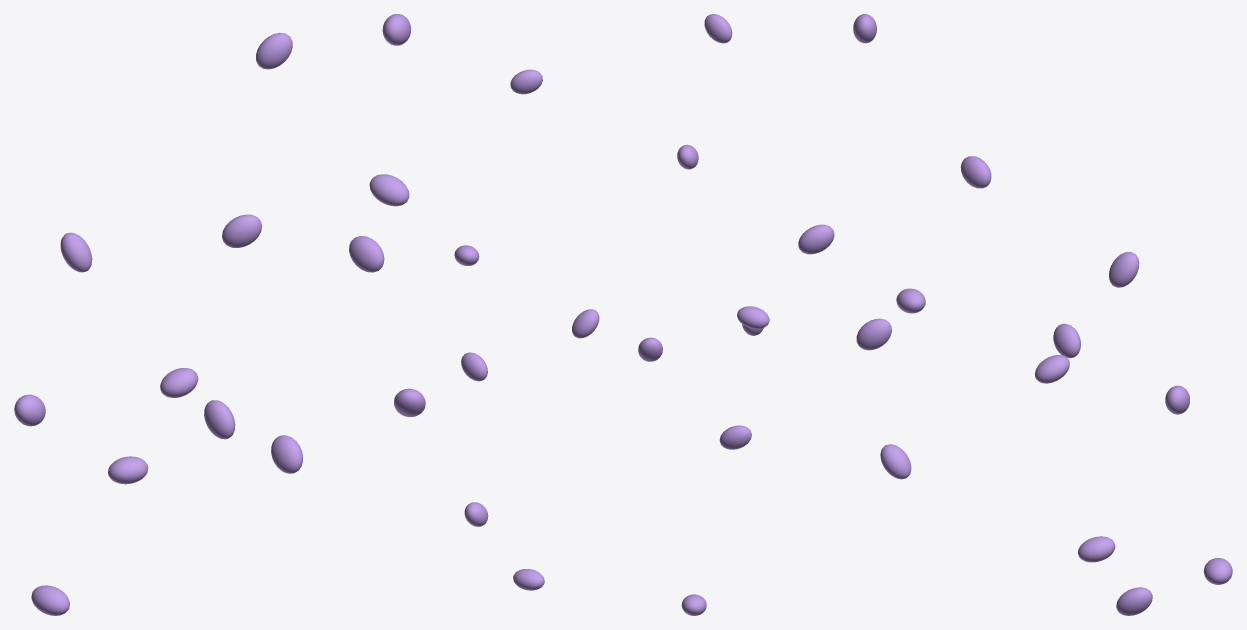
File: Lysosomes.fbx
The picture shows the model from 3 angles, left to right: view 1: azimuth 30°, elevation 25°; view 2: azimuth 150°, elevation 25°; view 3: azimuth 270°, elevation 25°; orthographic projection. The views are drawn at different scales.
Parts seen in each view (by area): view 1: polySurface132, polySurface136, polySurface135, polySurface141, polySurface131, polySurface133, polySurface139, polySurface137, polySurface130, polySurface134, polySurface138, polySurface142 (+1 smaller); view 2: polySurface142, polySurface136, polySurface138, polySurface140, polySurface132, polySurface134, polySurface130, polySurface133, polySurface131, polySurface137, polySurface135; view 3: polySurface139, polySurface133, polySurface135, polySurface140, polySurface131, polySurface142, polySurface137, polySurface138, polySurface141, polySurface130, polySurface134, polySurface132.
Boxes of the visible parts, x1=… form: polySurface132: x1=222, y1=214, x2=262, y2=247; polySurface136: x1=256, y1=32, x2=292, y2=69; polySurface135: x1=349, y1=236, x2=384, y2=272; polySurface141: x1=369, y1=174, x2=409, y2=206; polySurface131: x1=271, y1=435, x2=302, y2=473; polySurface133: x1=60, y1=232, x2=92, y2=272; polySurface139: x1=204, y1=400, x2=235, y2=439; polySurface137: x1=31, y1=585, x2=69, y2=615; polySurface130: x1=108, y1=456, x2=148, y2=484; polySurface134: x1=160, y1=368, x2=198, y2=397; polySurface138: x1=14, y1=394, x2=45, y2=426; polySurface142: x1=382, y1=14, x2=411, y2=45; polySurface142: x1=510, y1=69, x2=542, y2=94; polySurface136: x1=704, y1=14, x2=732, y2=43; polySurface138: x1=719, y1=425, x2=751, y2=449; polySurface140: x1=572, y1=309, x2=599, y2=338; polySurface132: x1=461, y1=352, x2=487, y2=381; polySurface134: x1=737, y1=306, x2=769, y2=328; polySurface130: x1=513, y1=569, x2=544, y2=590; polySurface133: x1=638, y1=337, x2=662, y2=361; polySurface131: x1=464, y1=502, x2=488, y2=526; polySurface137: x1=681, y1=594, x2=706, y2=615; polySurface135: x1=677, y1=144, x2=698, y2=169; polySurface139: x1=856, y1=318, x2=891, y2=350; polySurface133: x1=1109, y1=252, x2=1139, y2=287; polySurface135: x1=798, y1=224, x2=834, y2=254; polySurface140: x1=880, y1=444, x2=911, y2=479; polySurface131: x1=1116, y1=587, x2=1152, y2=615; polySurface142: x1=960, y1=156, x2=991, y2=188; polySurface137: x1=1078, y1=536, x2=1115, y2=562; polySurface138: x1=1053, y1=323, x2=1080, y2=358; polySurface141: x1=1035, y1=355, x2=1069, y2=383; polySurface130: x1=1203, y1=558, x2=1232, y2=584; polySurface134: x1=896, y1=288, x2=925, y2=313; polySurface132: x1=1165, y1=385, x2=1189, y2=414.
Size of the model in its own units: 140 by 227 by 152.
